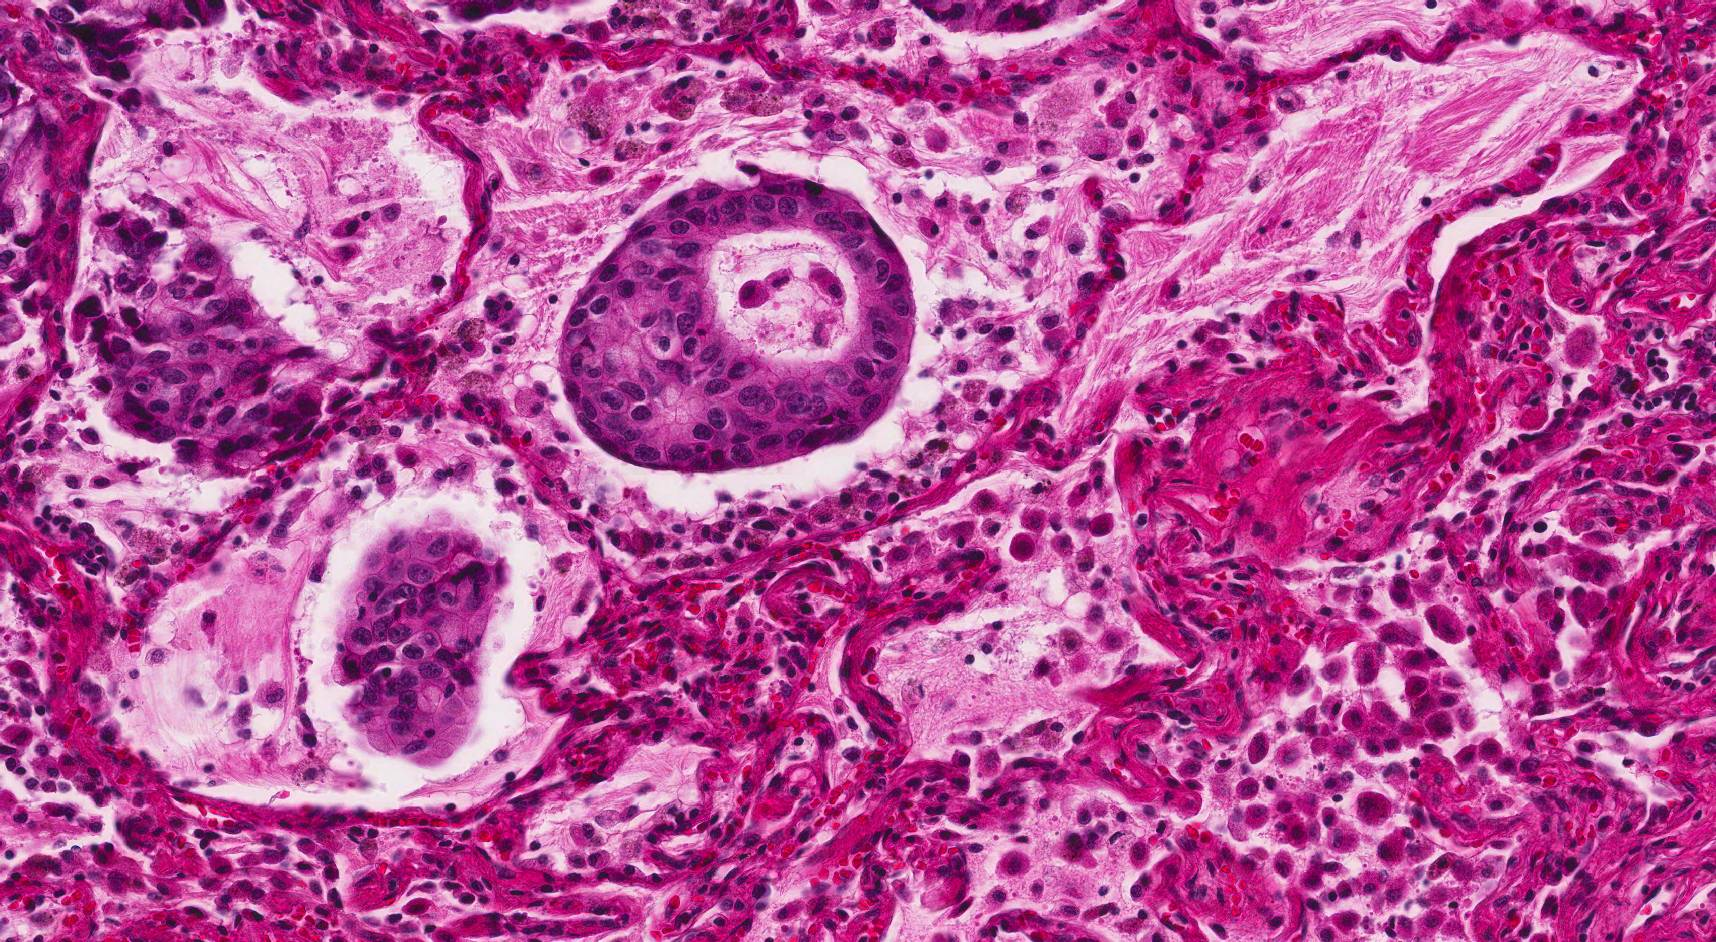stas: (561, 176, 914, 469), (73, 210, 319, 472), (332, 525, 511, 768)
